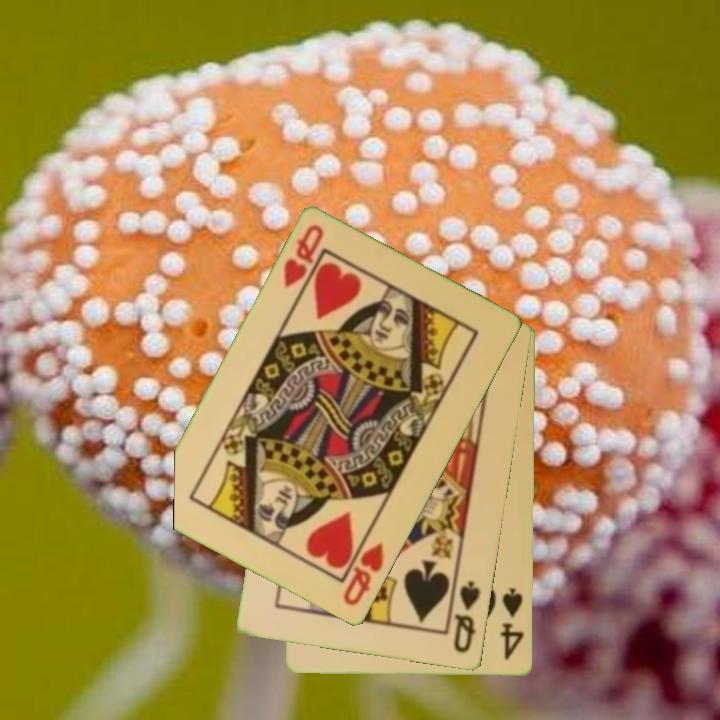4s: (497, 585, 527, 663)
Qh: (339, 539, 387, 609), (280, 221, 327, 292)
Qs: (450, 578, 484, 656)
